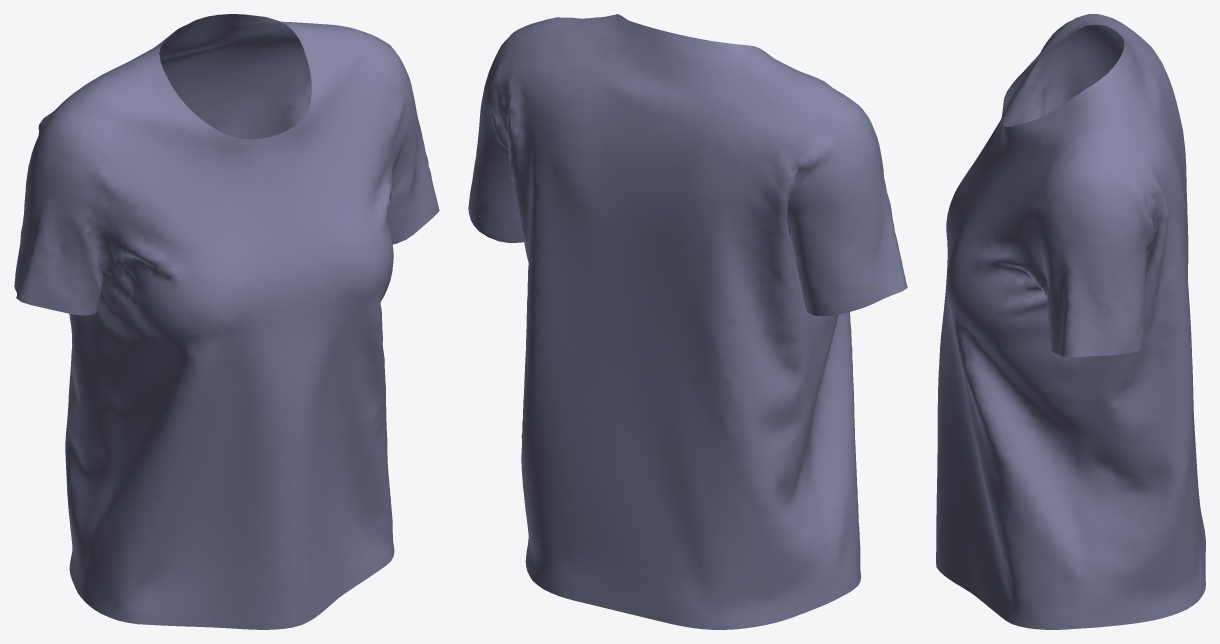
The picture shows the model from 3 angles, left to right: view 1: azimuth 30°, elevation 25°; view 2: azimuth 150°, elevation 25°; view 3: azimuth 270°, elevation 25°; orthographic projection. The views are drawn at different scales.
Parts seen in each view (by area): view 1: Body_Front (×2), Body_Back (×2), Sleeves (×2), Ribbing (×2); view 2: Body_Back (×2), Sleeves (×2), Body_Front, Ribbing; view 3: Body_Front (×2), Body_Back (×2), Sleeves (×2), Ribbing (×2).
Part boxes in pixels (left/top/right/bottom): Body_Front (×2): left=66, top=38, right=401, bottom=629; Body_Back (×2): left=39, top=21, right=397, bottom=600; Sleeves (×2): left=14, top=51, right=439, bottom=315; Ribbing (×2): left=145, top=14, right=324, bottom=153; Body_Back (×2): left=492, top=17, right=861, bottom=629; Sleeves (×2): left=468, top=39, right=907, bottom=316; Body_Front: left=772, top=57, right=865, bottom=594; Ribbing: left=602, top=14, right=770, bottom=57; Body_Front (×2): left=936, top=18, right=1079, bottom=629; Body_Back (×2): left=1073, top=14, right=1205, bottom=628; Sleeves (×2): left=1028, top=24, right=1154, bottom=357; Ribbing (×2): left=1000, top=24, right=1131, bottom=141.
Size of the model in its own units: 45.71 by 56.46 by 26.39.
